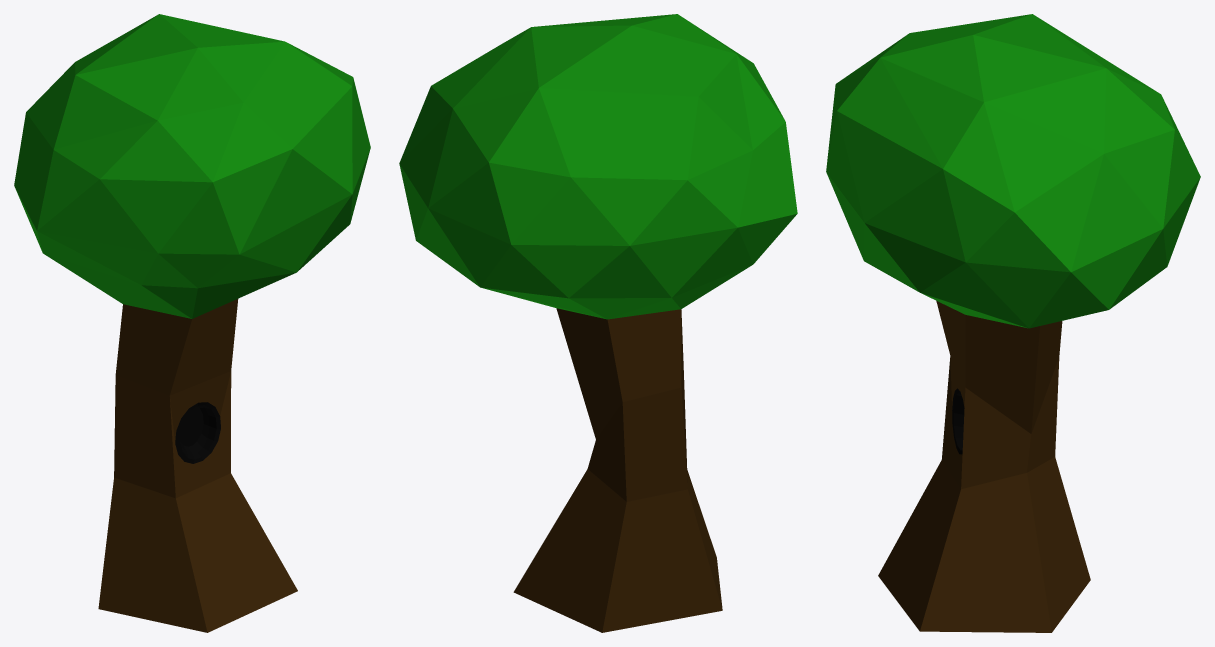
Rendered from Arbre3.fbx.
3 renders of one model, left to right at view 1: azimuth 30°, elevation 25°; view 2: azimuth 150°, elevation 25°; view 3: azimuth 270°, elevation 25°, orthographic. The views are drawn at different scales.
Parts seen in each view (by area): view 1: Arbre3; view 2: Arbre3; view 3: Arbre3.
Boxes of the visible parts, x1,y1,x2,y2 form: Arbre3: (14, 14, 370, 632); Arbre3: (399, 14, 797, 632); Arbre3: (826, 14, 1200, 632).
Bounding box in the file's own units: 320 × 488 × 296.
